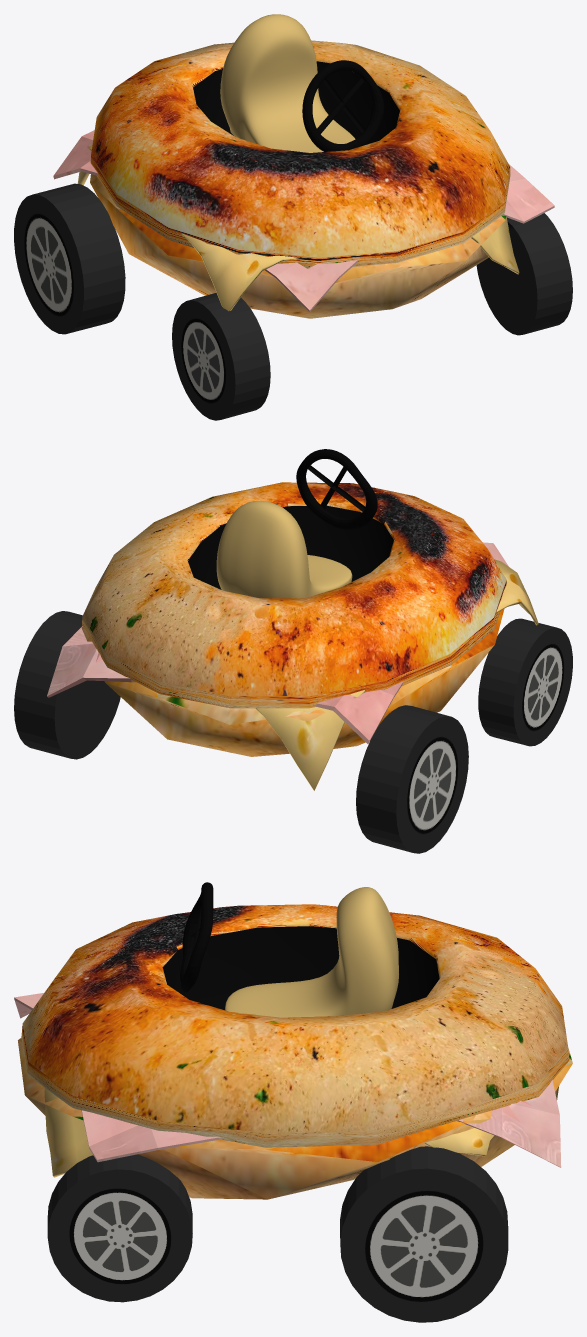
The model's file is carro arepa fix.fbx.
3 renders of one model, top to bottom at view 1: azimuth 30°, elevation 25°; view 2: azimuth 150°, elevation 25°; view 3: azimuth 270°, elevation 25°, orthographic. The views are drawn at different scales.
Parts seen in each view (by area): view 1: Cubo.002, Cubo.005, Cubo.006, Cubo.003; view 2: Cubo.002, Cubo.005, Cubo.006, Cubo.004; view 3: Cubo.002, Cubo.004, Cubo.003.
Part boxes in pixels (left/top/right/bottom): Cubo.002: left=53, top=14, right=554, bottom=318; Cubo.005: left=14, top=183, right=125, bottom=334; Cubo.006: left=172, top=292, right=270, bottom=420; Cubo.003: left=476, top=213, right=572, bottom=335; Cubo.002: left=47, top=449, right=538, bottom=790; Cubo.005: left=356, top=705, right=468, bottom=853; Cubo.006: left=478, top=618, right=572, bottom=746; Cubo.004: left=14, top=611, right=120, bottom=759; Cubo.002: left=14, top=882, right=572, bottom=1199; Cubo.004: left=340, top=1146, right=508, bottom=1322; Cubo.003: left=47, top=1154, right=192, bottom=1302.
Bounding box in the file's own units: 347 × 244 × 366.
